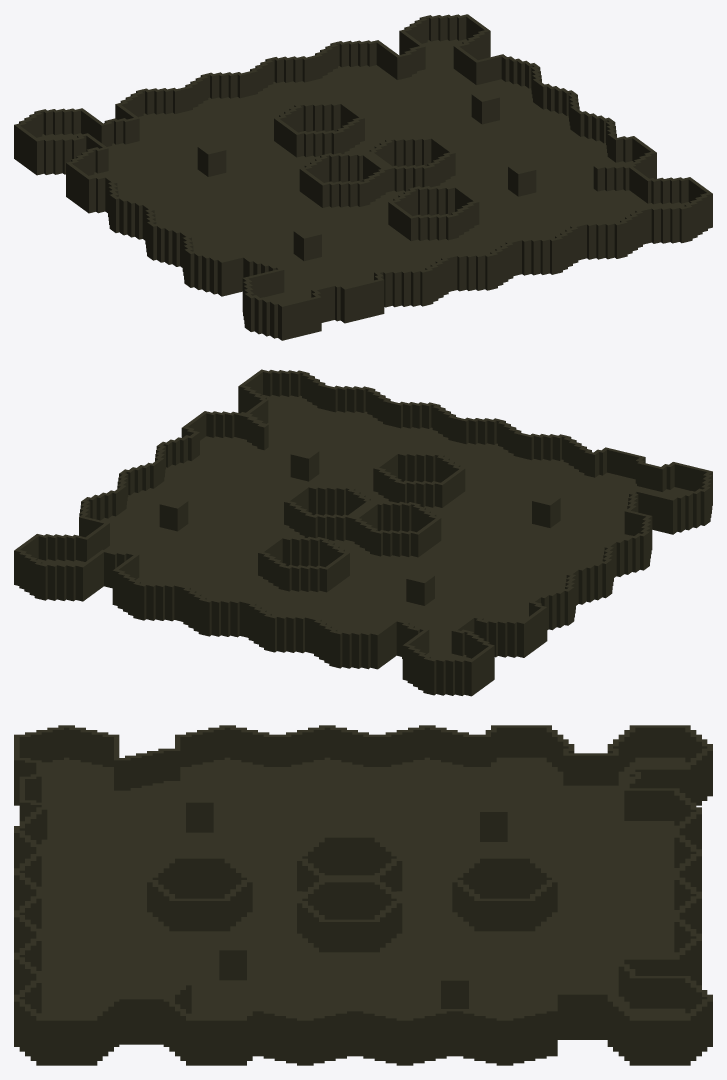
File: cenario exagono.obj
3 renders of one model, top to bottom at view 1: azimuth 30°, elevation 25°; view 2: azimuth 150°, elevation 25°; view 3: azimuth 270°, elevation 25°, orthographic. The views are drawn at different scales.
Size of the model in its own units: 126 by 9 by 126.
1 material, 1 textured.
